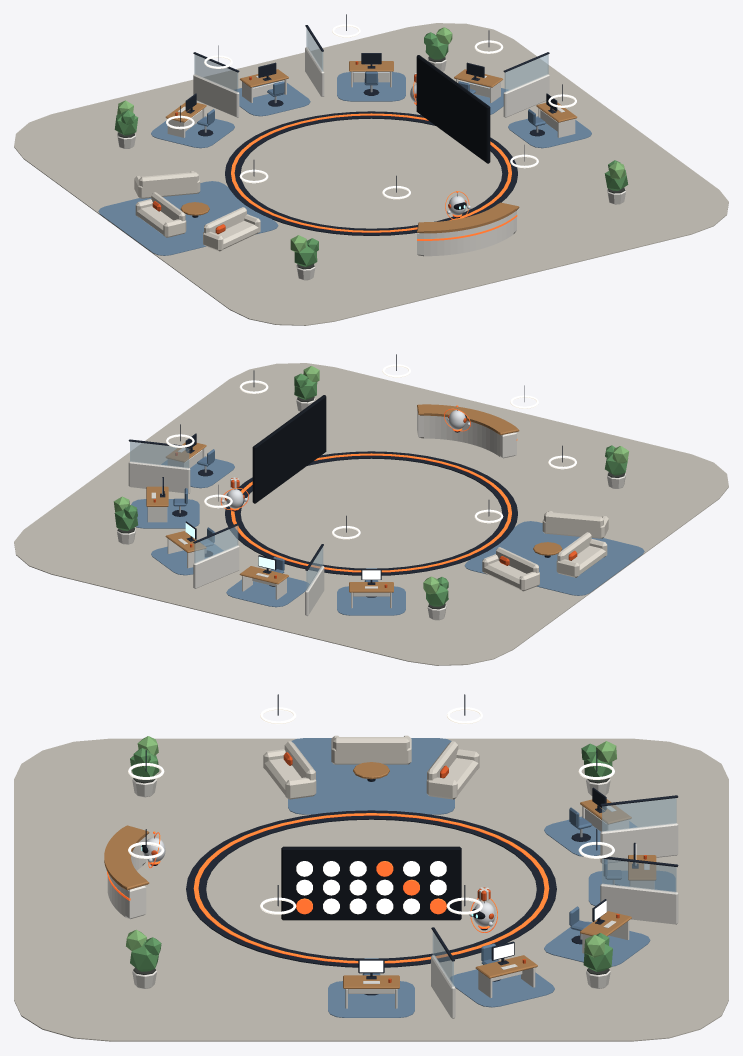
File: interior_F01.glb
3 renders of one model, top to bottom at view 1: azimuth 30°, elevation 25°; view 2: azimuth 150°, elevation 25°; view 3: azimuth 270°, elevation 25°, orthographic. The views are drawn at different scales.
Parts seen in each view (by area): view 1: AR_TorreHZK_F01_PisoAcab, AR_TorreHZK_F01_Tapete_0, AR_TorreHZK_F01_AnelBase, AR_TorreHZK_F01_Mural, AR_TorreHZK_F01_Divisoria_21, AR_TorreHZK_F01_Recepcao, AR_TorreHZK_F01_Divisoria_23, AR_TorreHZK_F01_AnelLuz, AR_TorreHZK_F01_Sofa_3, AR_TorreHZK_F01_Tapete_11, AR_TorreHZK_F01_Sofa_2, AR_TorreHZK_F01_Sofa_4 (+14 smaller); view 2: AR_TorreHZK_F01_PisoAcab, AR_TorreHZK_F01_Tapete_0, AR_TorreHZK_F01_Mural, AR_TorreHZK_F01_AnelBase, AR_TorreHZK_F01_Divisoria_21, AR_TorreHZK_F01_Divisoria_22, AR_TorreHZK_F01_Recepcao, AR_TorreHZK_F01_AnelLuz, AR_TorreHZK_F01_Sofa_4, AR_TorreHZK_F01_Tapete_17, AR_TorreHZK_F01_Sofa_2, AR_TorreHZK_F01_Sofa_3 (+15 smaller); view 3: AR_TorreHZK_F01_PisoAcab, AR_TorreHZK_F01_Mural, AR_TorreHZK_F01_AnelBase, AR_TorreHZK_F01_Tapete_0, AR_TorreHZK_F01_Divisoria_22, AR_TorreHZK_F01_Divisoria_23, AR_TorreHZK_F01_MuralAvatares, AR_TorreHZK_F01_AnelLuz, AR_TorreHZK_F01_Tapete_5, AR_TorreHZK_F01_Sofa_2, AR_TorreHZK_F01_Tapete_8, AR_TorreHZK_F01_Sofa_3 (+17 smaller).
Part boxes in pixels (<box>): AR_TorreHZK_F01_PisoAcab: <box>14,23,728,325</box>; AR_TorreHZK_F01_Tapete_0: <box>98,181,278,255</box>; AR_TorreHZK_F01_AnelBase: <box>225,111,517,235</box>; AR_TorreHZK_F01_Mural: <box>416,55,490,163</box>; AR_TorreHZK_F01_Divisoria_21: <box>503,52,549,117</box>; AR_TorreHZK_F01_Recepcao: <box>417,210,516,256</box>; AR_TorreHZK_F01_Divisoria_23: <box>193,52,239,117</box>; AR_TorreHZK_F01_AnelLuz: <box>231,113,511,232</box>; AR_TorreHZK_F01_Sofa_3: <box>203,207,260,251</box>; AR_TorreHZK_F01_Tapete_11: <box>337,72,405,101</box>; AR_TorreHZK_F01_Sofa_2: <box>135,192,186,237</box>; AR_TorreHZK_F01_Sofa_4: <box>134,171,200,198</box>; AR_TorreHZK_F01_PisoAcab: <box>14,363,728,665</box>; AR_TorreHZK_F01_Tapete_0: <box>464,521,644,595</box>; AR_TorreHZK_F01_Mural: <box>252,395,326,503</box>; AR_TorreHZK_F01_AnelBase: <box>225,451,517,575</box>; AR_TorreHZK_F01_Divisoria_21: <box>128,439,190,493</box>; AR_TorreHZK_F01_Divisoria_22: <box>193,523,239,588</box>; AR_TorreHZK_F01_Recepcao: <box>417,409,516,458</box>; AR_TorreHZK_F01_AnelLuz: <box>231,453,511,572</box>; AR_TorreHZK_F01_Sofa_4: <box>482,547,539,591</box>; AR_TorreHZK_F01_Tapete_17: <box>337,586,405,615</box>; AR_TorreHZK_F01_Sofa_2: <box>556,532,607,577</box>; AR_TorreHZK_F01_Sofa_3: <box>542,511,608,538</box>; AR_TorreHZK_F01_PisoAcab: <box>14,738,728,1041</box>; AR_TorreHZK_F01_Mural: <box>281,846,461,920</box>; AR_TorreHZK_F01_AnelBase: <box>186,810,556,967</box>; AR_TorreHZK_F01_Tapete_0: <box>288,738,454,814</box>; AR_TorreHZK_F01_Divisoria_22: <box>600,856,678,924</box>; AR_TorreHZK_F01_Divisoria_23: <box>600,795,678,863</box>; AR_TorreHZK_F01_MuralAvatares: <box>296,861,446,914</box>; AR_TorreHZK_F01_AnelLuz: <box>193,813,549,963</box>; AR_TorreHZK_F01_Tapete_5: <box>328,981,414,1017</box>; AR_TorreHZK_F01_Sofa_2: <box>331,735,411,764</box>; AR_TorreHZK_F01_Tapete_8: <box>450,969,554,1007</box>; AR_TorreHZK_F01_Sofa_3: <box>263,741,316,799</box>.
Bounding box in the file's own units: 21.4 × 3.33 × 21.4.
